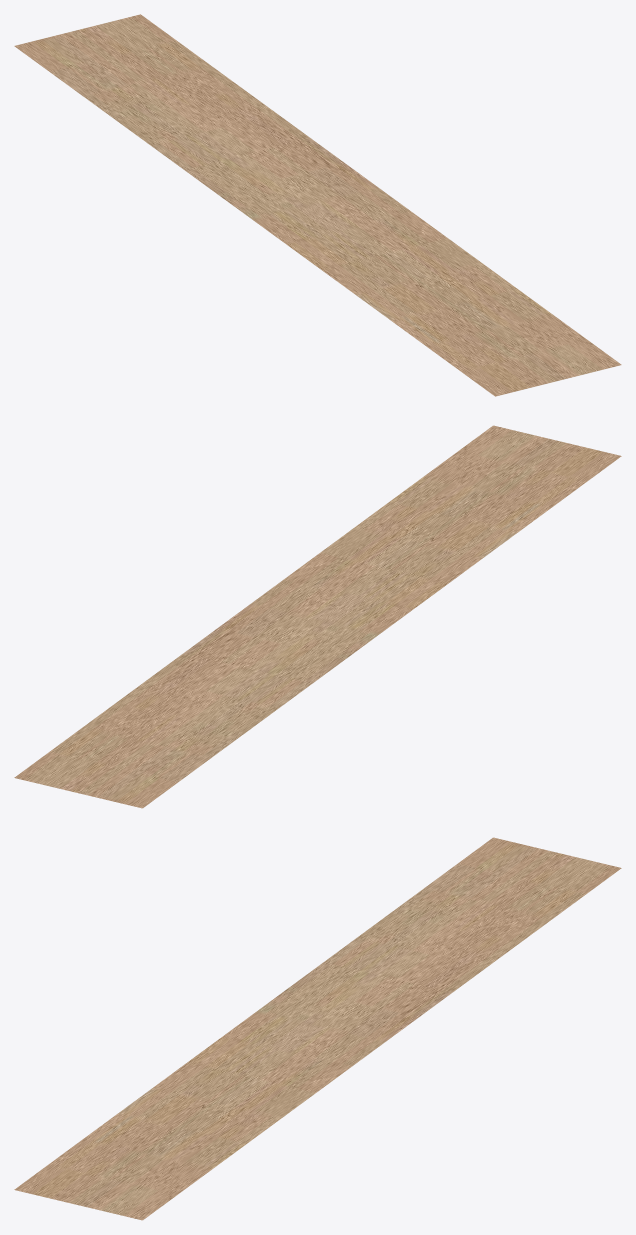
3 renders of one model, top to bottom at view 1: azimuth 30°, elevation 25°; view 2: azimuth 150°, elevation 25°; view 3: azimuth 330°, elevation 25°, orthographic.
Parts seen in each view (by area): view 1: Plane.005; view 2: Plane.005; view 3: Plane.005.
Part boxes in pixels (x1,y1,x2,y2): Plane.005: (14, 14, 621, 396); Plane.005: (14, 425, 621, 808); Plane.005: (14, 837, 621, 1220).
Size of the model in its own units: 64.9 by 0 by 418.
Materials: 1 (1 with a texture image).
